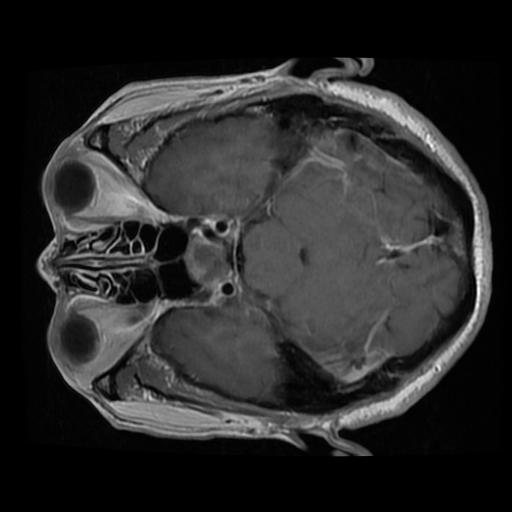pituitary tumour: (185, 233, 229, 289)
